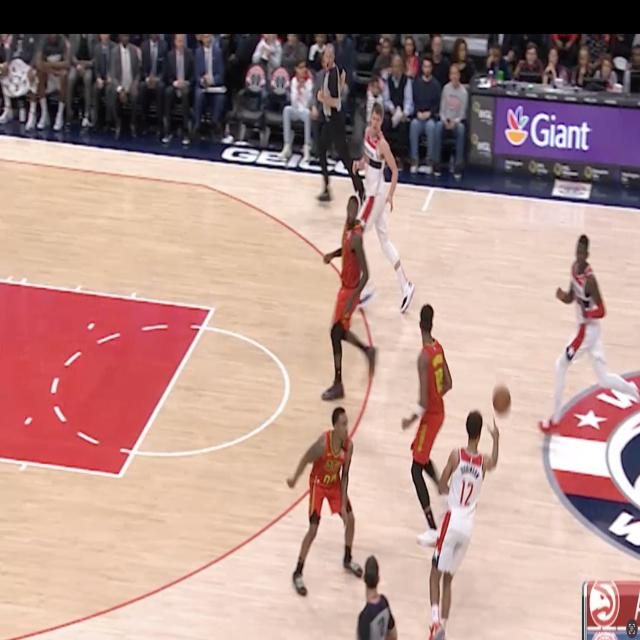no foul: (392, 297, 500, 627), (308, 84, 398, 424)
